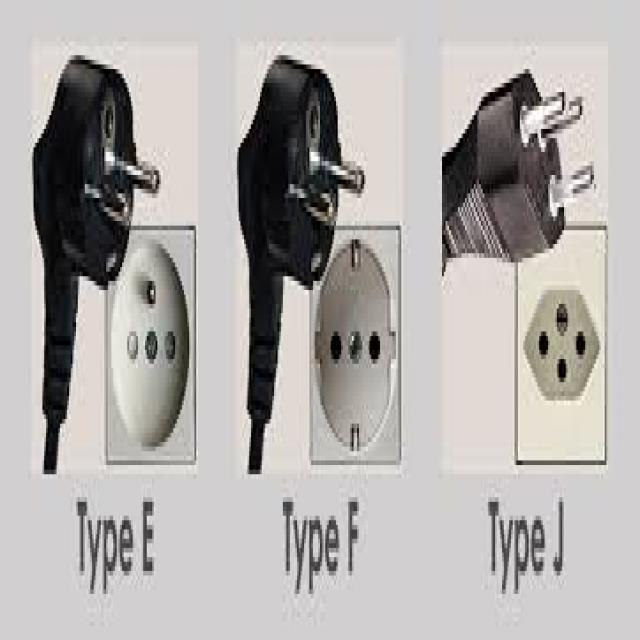typeb: (304, 211, 407, 509)
